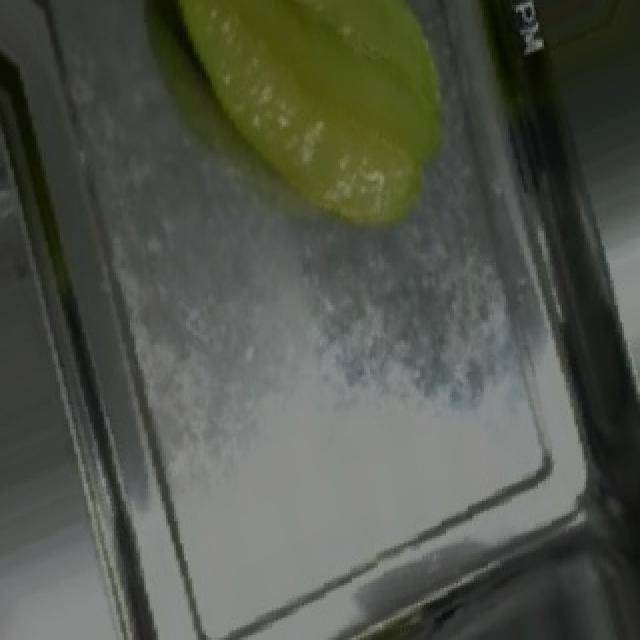fruit: (130, 2, 498, 270)
